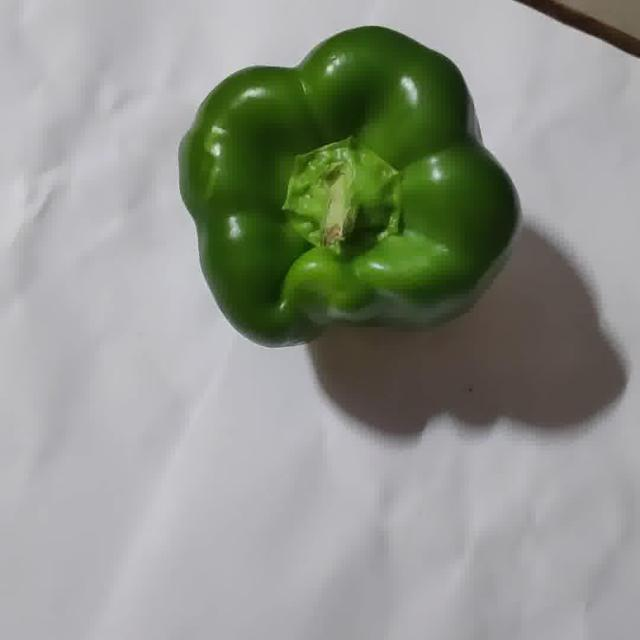Bell Pepper: (180, 27, 517, 346)
